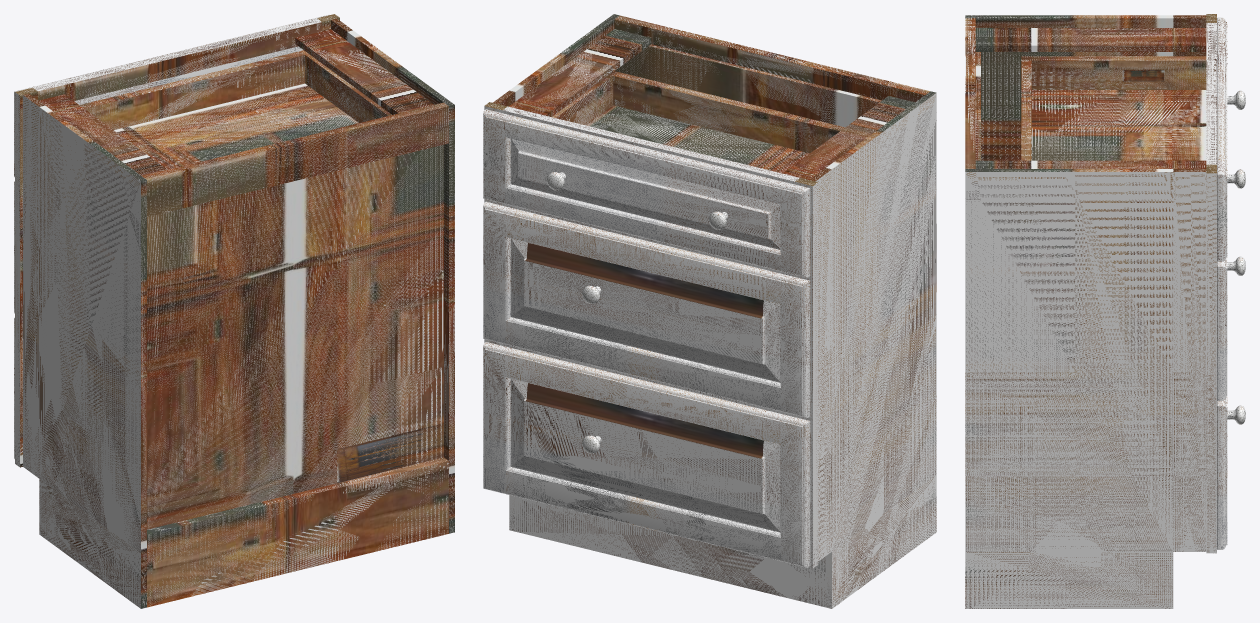
3 views of the same model, side by side, from view 1: azimuth 30°, elevation 25°; view 2: azimuth 150°, elevation 25°; view 3: azimuth 270°, elevation 25° (orthographic). The views are drawn at different scales.
Visible parts, largest first — view 1: mesh4_mesh4-geometry, mesh7_mesh7-geometry, mesh12_mesh12-geometry, mesh3_mesh3-geometry, mesh19_mesh19-geometry, mesh17_mesh17-geometry, mesh6_mesh6-geometry, mesh5_mesh5-geometry, mesh8_mesh8-geometry, mesh10_mesh10-geometry, mesh14_mesh14-geometry, mesh2_mesh2-geometry (+4 smaller); view 2: mesh7_mesh7-geometry, mesh25_mesh25-geometry, mesh30_mesh30-geometry, mesh26_mesh26-geometry, mesh13_mesh13-geometry, mesh36_mesh36-geometry, mesh4_mesh4-geometry, mesh37_mesh37-geometry, mesh17_mesh17-geometry, mesh8_mesh8-geometry, mesh3_mesh3-geometry, mesh6_mesh6-geometry (+21 smaller); view 3: mesh10_mesh10-geometry, mesh9_mesh9-geometry, mesh19_mesh19-geometry, mesh11_mesh11-geometry, mesh7_mesh7-geometry, mesh16_mesh16-geometry, mesh15_mesh15-geometry, mesh2_mesh2-geometry, mesh14_mesh14-geometry, mesh3_mesh3-geometry, mesh5_mesh5-geometry, mesh36_mesh36-geometry (+9 smaller).
Part boxes in pixels (left/top/right/bottom): mesh4_mesh4-geometry: left=147, top=144, right=443, bottom=529; mesh7_mesh7-geometry: left=39, top=105, right=146, bottom=552; mesh12_mesh12-geometry: left=147, top=457, right=448, bottom=607; mesh3_mesh3-geometry: left=142, top=102, right=448, bottom=216; mesh19_mesh19-geometry: left=114, top=83, right=358, bottom=169; mesh17_mesh17-geometry: left=79, top=51, right=304, bottom=129; mesh6_mesh6-geometry: left=23, top=93, right=44, bottom=478; mesh5_mesh5-geometry: left=33, top=18, right=321, bottom=100; mesh8_mesh8-geometry: left=39, top=479, right=146, bottom=608; mesh10_mesh10-geometry: left=347, top=30, right=454, bottom=477; mesh14_mesh14-geometry: left=295, top=29, right=433, bottom=114; mesh2_mesh2-geometry: left=15, top=14, right=339, bottom=467; mesh7_mesh7-geometry: left=826, top=91, right=936, bottom=551; mesh25_mesh25-geometry: left=525, top=212, right=765, bottom=459; mesh30_mesh30-geometry: left=525, top=261, right=761, bottom=512; mesh26_mesh26-geometry: left=525, top=305, right=763, bottom=556; mesh13_mesh13-geometry: left=515, top=496, right=825, bottom=607; mesh36_mesh36-geometry: left=521, top=119, right=770, bottom=214; mesh4_mesh4-geometry: left=615, top=44, right=881, bottom=127; mesh37_mesh37-geometry: left=521, top=177, right=768, bottom=267; mesh17_mesh17-geometry: left=613, top=72, right=844, bottom=153; mesh8_mesh8-geometry: left=826, top=475, right=936, bottom=608; mesh3_mesh3-geometry: left=614, top=15, right=929, bottom=102; mesh6_mesh6-geometry: left=810, top=168, right=831, bottom=561; mesh10_mesh10-geometry: left=965, top=169, right=1173, bottom=551; mesh9_mesh9-geometry: left=1173, top=169, right=1206, bottom=551; mesh19_mesh19-geometry: left=1031, top=90, right=1206, bottom=160; mesh11_mesh11-geometry: left=965, top=552, right=1173, bottom=608; mesh7_mesh7-geometry: left=965, top=15, right=1173, bottom=160; mesh16_mesh16-geometry: left=1021, top=56, right=1206, bottom=89; mesh15_mesh15-geometry: left=975, top=28, right=1206, bottom=51; mesh2_mesh2-geometry: left=1206, top=14, right=1216, bottom=553; mesh14_mesh14-geometry: left=975, top=160, right=1206, bottom=168; mesh3_mesh3-geometry: left=965, top=18, right=975, bottom=168; mesh5_mesh5-geometry: left=1206, top=23, right=1216, bottom=164; mesh36_mesh36-geometry: left=1217, top=36, right=1227, bottom=158.
Size of the model in its own units: 0.5603 by 0.716 by 0.4164.
